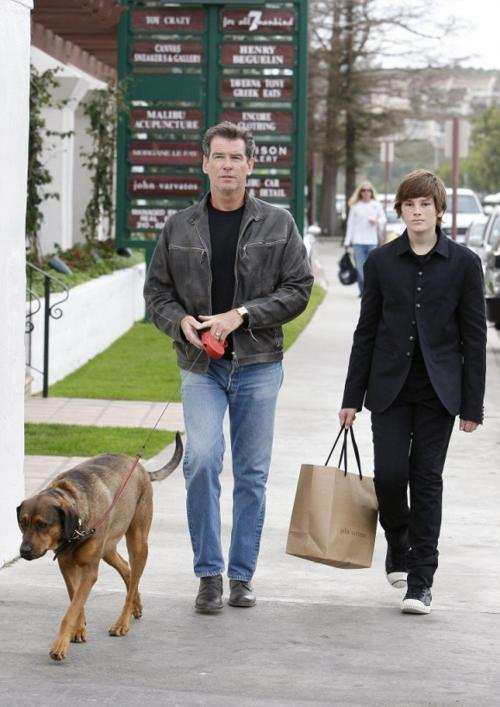person: (143, 123, 315, 616)
